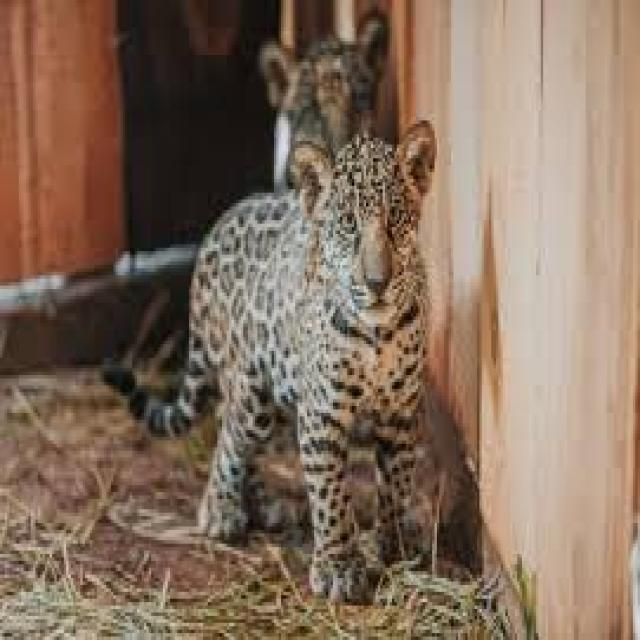Jaguar: (130, 127, 442, 578)
